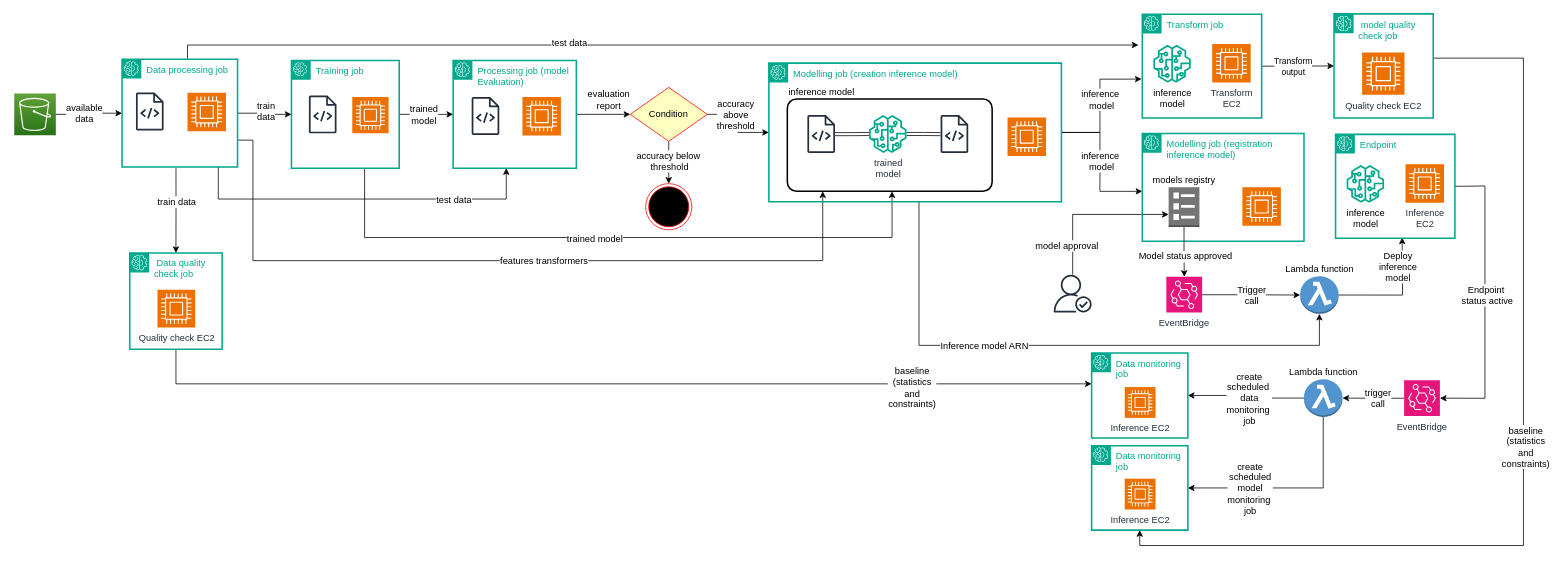
This 1562x565 diagram has some shape labels left out. The shapes that lost their labels are listed below. From the top down, each one's centre as x and y in pixels, then its label:
At [34,114]: "Data Store".
At [149,111]: "processing script".
At [206,111]: "processing EC2".
At [322,114]: "Training script".
At [370,114]: "Training EC2".
At [485,116]: "Evaluation script".
At [541,115]: "Evaluation EC2".
At [821,134]: "preprocessing script".
At [954,134]: "postprocessing script".
At [1026,136]: "model creation EC2".
At [668,206]: "End".
At [1261,206]: "Registration EC2".
At [1072,293]: "Team".
